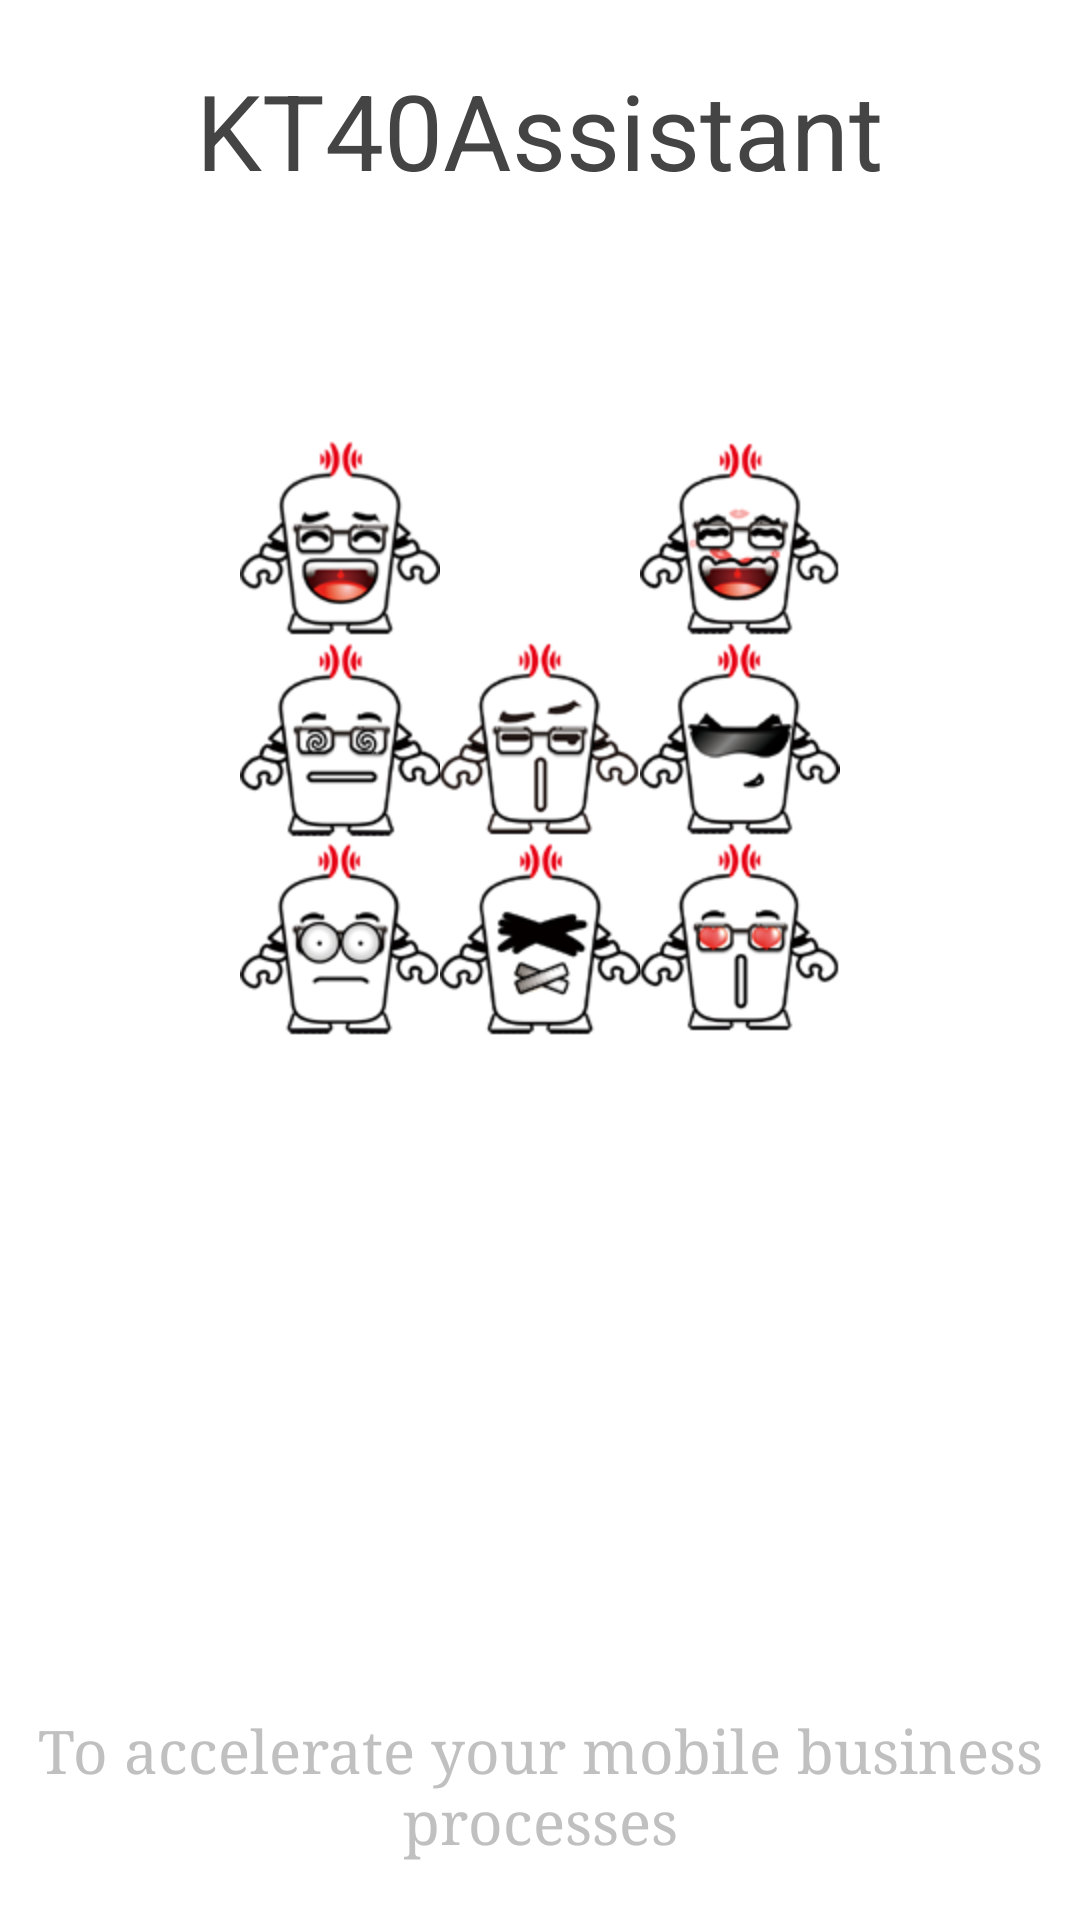

Point at icon controls on the screen. Image size 1080w x 1920h, points as point (x, y).
face: point (340, 538), point (739, 539), point (340, 740), point (539, 739), point (740, 739), point (339, 939), point (540, 939)
